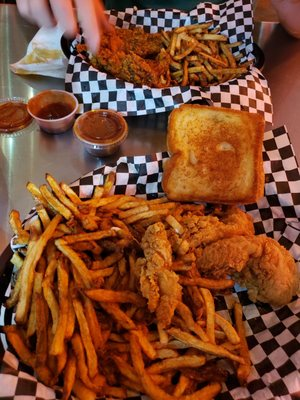sushi: (73, 109, 129, 159), (27, 89, 79, 134)
